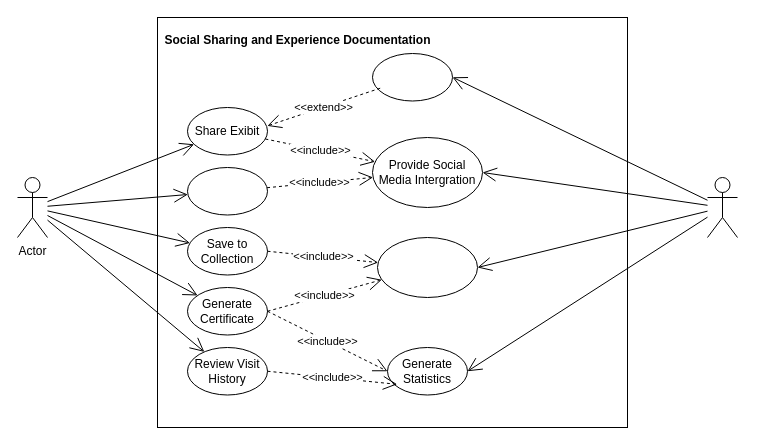
Some shapes in this 760 by 445 pixel diagram are drawn without their labels. Here are the shapes that lost their labels. From the top down, the centre of each, then its label:
At pixel 412 76: "Check Connection".
At pixel 227 190: "Create Visit Summary".
At pixel 722 207: "System".
At pixel 427 267: "Update User's Database".
